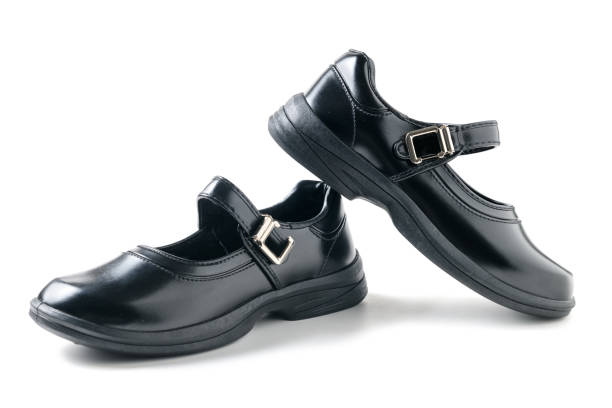Footwear: (270, 41, 591, 324)
